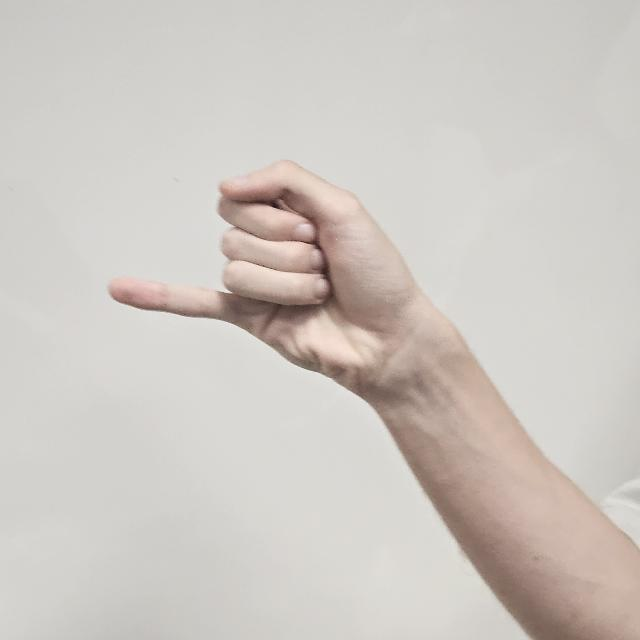Esquerda: (74, 130, 406, 402)
